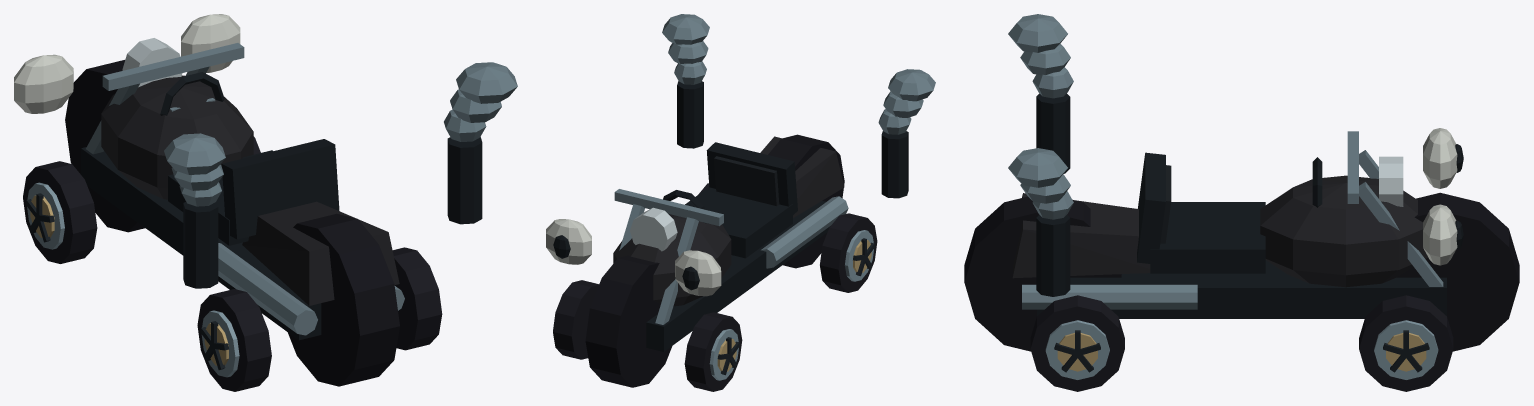
The model's file is kart.glb.
3 renders of one model, left to right at view 1: azimuth 30°, elevation 25°; view 2: azimuth 150°, elevation 25°; view 3: azimuth 270°, elevation 25°, orthographic. The views are drawn at different scales.
Visible parts, largest first — view 1: identity-motorbike-motorbike-tank-and-fork, identity-motorbike-motif-smoke, identity-motorbike-driver-cockpit, wheel-rear-left, wheel-front-left, identity-motorbike-motif-eyes, wheel-rear-right; view 2: identity-motorbike-motorbike-tank-and-fork, identity-motorbike-motif-smoke, identity-motorbike-driver-cockpit, wheel-front-left, wheel-rear-left, identity-motorbike-motif-eyes, wheel-front-right; view 3: identity-motorbike-motorbike-tank-and-fork, identity-motorbike-motif-smoke, identity-motorbike-driver-cockpit, wheel-front-right, wheel-rear-right, identity-motorbike-motif-eyes.
Part boxes in pixels (x1,y1,x2,y2): identity-motorbike-motorbike-tank-and-fork: (65,38,404,386); identity-motorbike-motif-smoke: (164,62,517,288); identity-motorbike-driver-cockpit: (160,72,339,245); wheel-rear-left: (197,289,271,391); wheel-front-left: (23,161,97,263); identity-motorbike-motif-eyes: (14,14,240,113); wheel-rear-right: (392,247,442,350); identity-motorbike-motorbike-tank-and-fork: (585,134,848,387); identity-motorbike-motif-smoke: (662,14,935,198); identity-motorbike-driver-cockpit: (663,142,797,258); wheel-front-left: (684,312,742,391); wheel-rear-left: (820,213,877,292); identity-motorbike-motif-eyes: (546,219,721,296); wheel-front-right: (553,280,598,359); identity-motorbike-motorbike-tank-and-fork: (964,131,1519,351); identity-motorbike-motif-smoke: (1008,14,1073,296); identity-motorbike-driver-cockpit: (1137,152,1322,273); wheel-front-right: (1359,295,1453,391); wheel-rear-right: (1030,295,1124,391); identity-motorbike-motif-eyes: (1423,128,1463,265).
Size of the model in its own units: 2 by 1.53 by 2.94.
